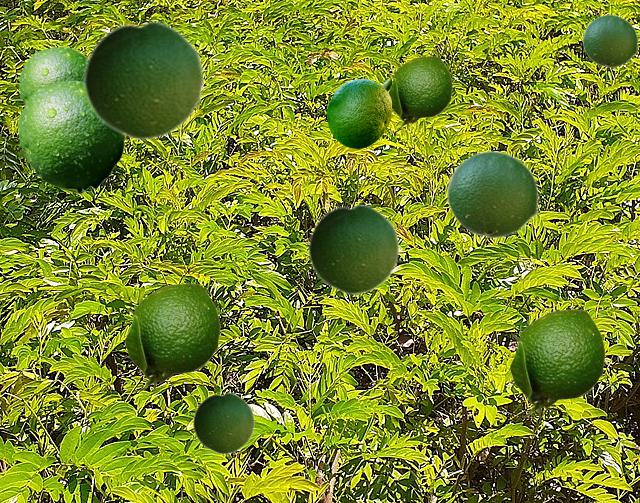dalandan: (82, 18, 204, 141), (18, 80, 125, 193), (508, 309, 604, 417), (123, 283, 219, 391), (307, 202, 399, 295), (446, 150, 538, 238), (388, 56, 451, 129), (327, 79, 390, 147), (192, 391, 254, 454), (19, 46, 86, 104), (582, 14, 637, 67)
